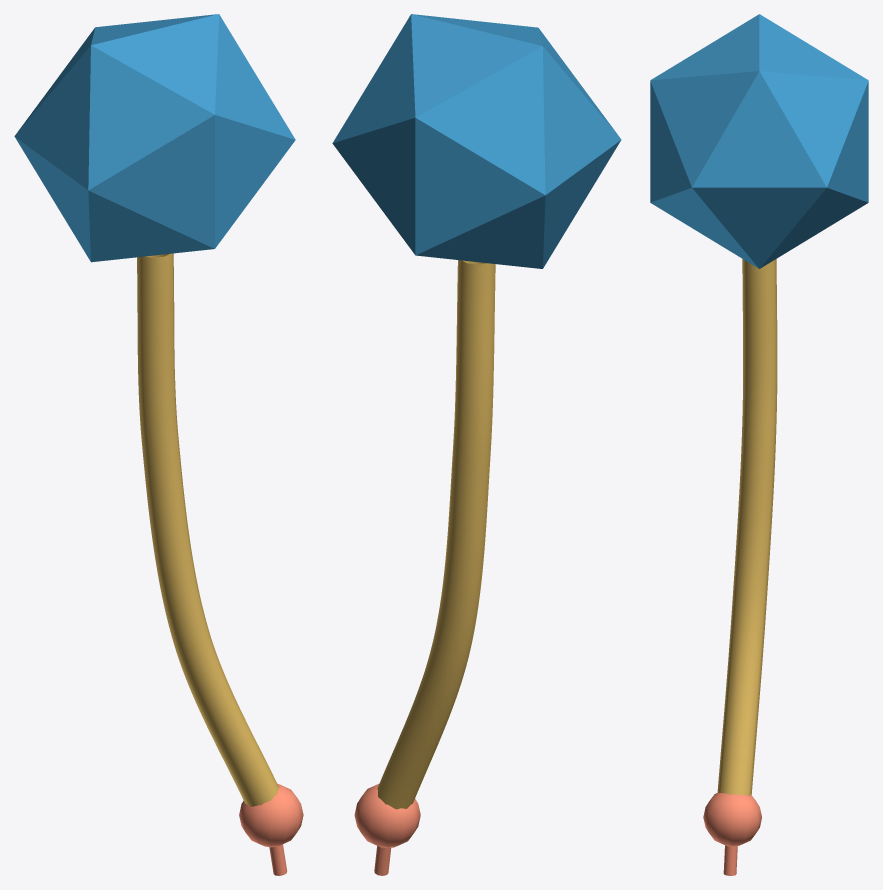
The model's file is fago-lambda.glb.
3 views of the same model, side by side, from view 1: azimuth 30°, elevation 25°; view 2: azimuth 150°, elevation 25°; view 3: azimuth 270°, elevation 25° (orthographic). The views are drawn at different scales.
Visible parts, largest first — view 1: tamanho; view 2: tamanho; view 3: tamanho.
Boxes of the visible parts, x1,y1,x2,y2 form: tamanho: (14, 14, 303, 875); tamanho: (332, 14, 621, 875); tamanho: (650, 14, 868, 875).
Size of the model in its own units: 0.1137 by 0.4 by 0.1011.
